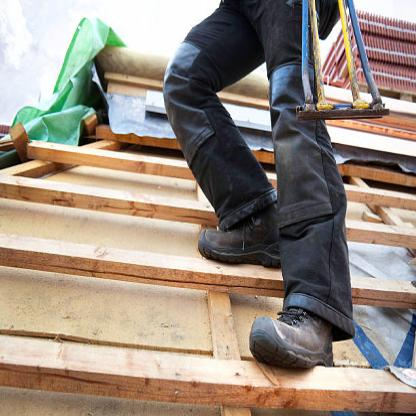bota: (196, 199, 280, 270), (247, 306, 335, 372)
